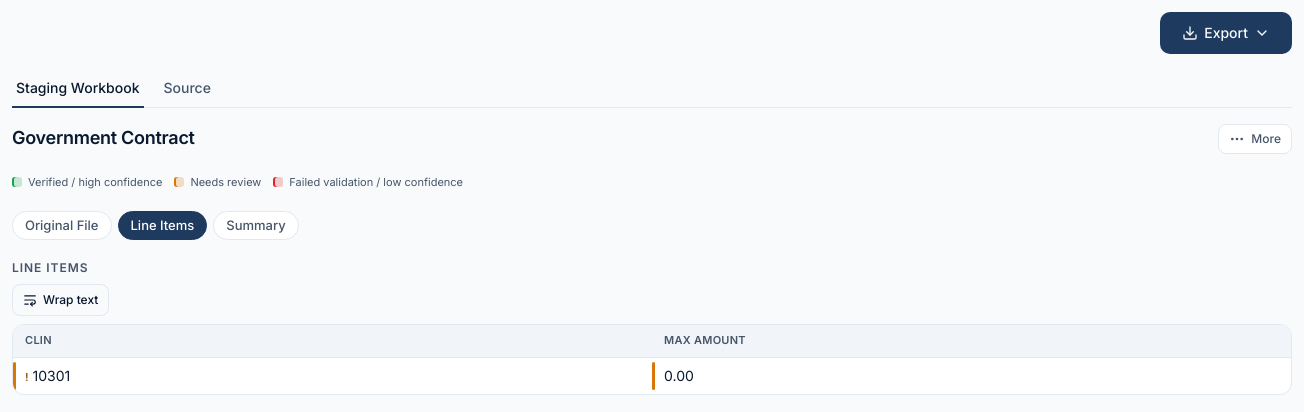
Test: StagingWorkbook rendering › renders business groups from the profile's datasets, omitting blank fields
Step 1. Click the tab "Summary" → click(256, 225), box 213,210 -> 299,240
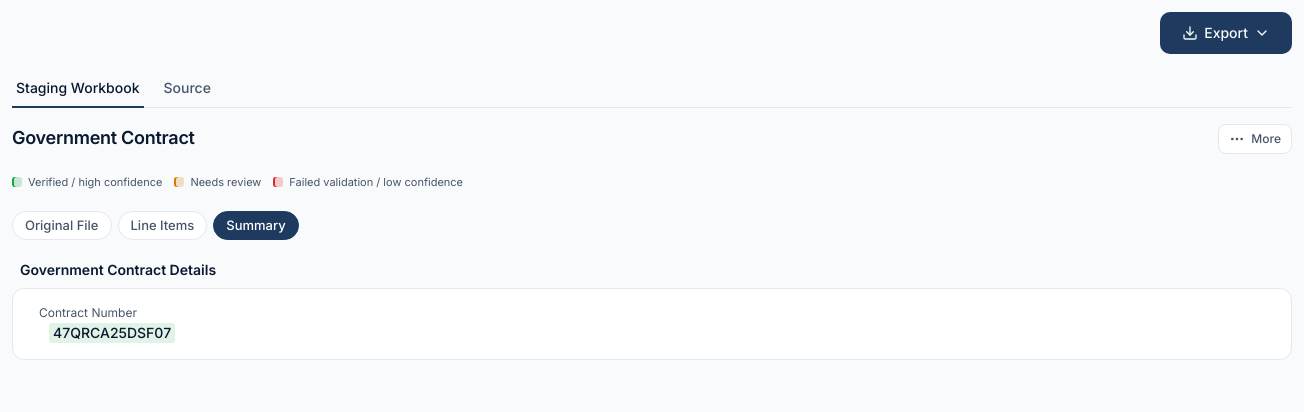
Expected: the tab "Line Items" is shown, 118,210 -> 207,240
Expected: the text "47QRCA25DSF07" is shown, 49,323 -> 175,343
